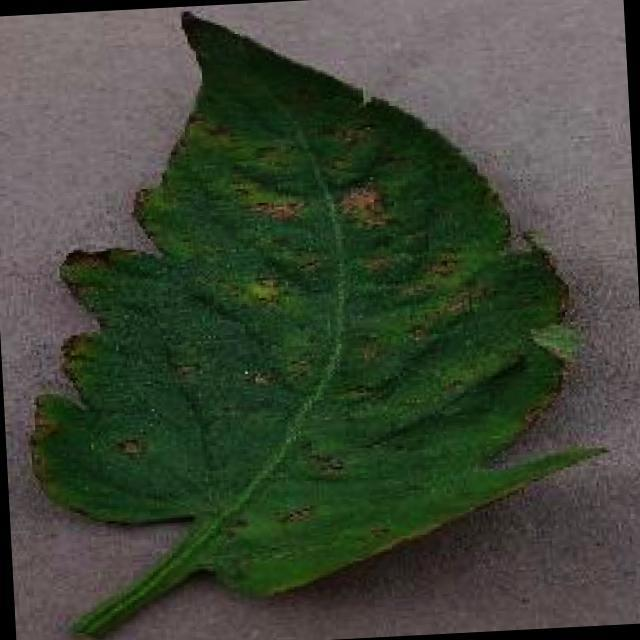Tomato bacterial spot leaf: (0, 0, 619, 607)
